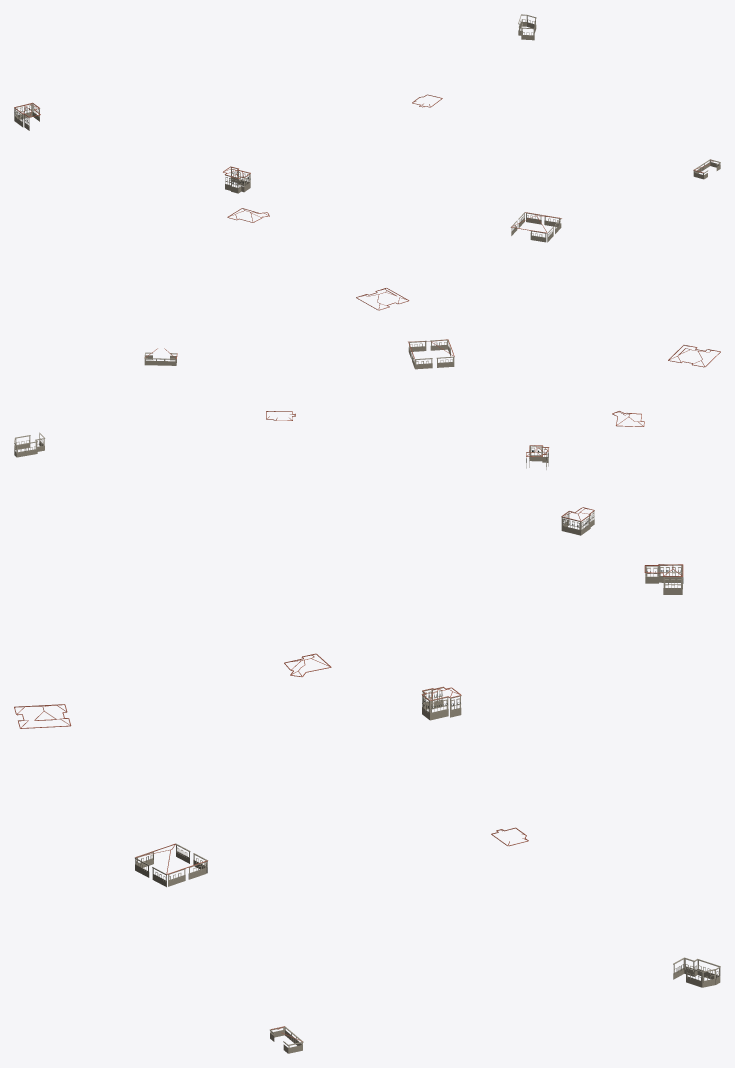
The picture shows the model from 3 angles, top to bottom: view 1: azimuth 30°, elevation 25°; view 2: azimuth 150°, elevation 25°; view 3: azimuth 270°, elevation 25°; orthographic projection. The views are drawn at different scales.
Parts seen in each view (by area): view 1: detail; view 2: detail; view 3: detail.
Part boxes in pixels (<box>): detail: <box>14,14,720,310</box>; detail: <box>14,339,720,535</box>; detail: <box>14,564,720,1053</box>.
Bounding box in the file's own units: 384 × 61.32 × 312.
